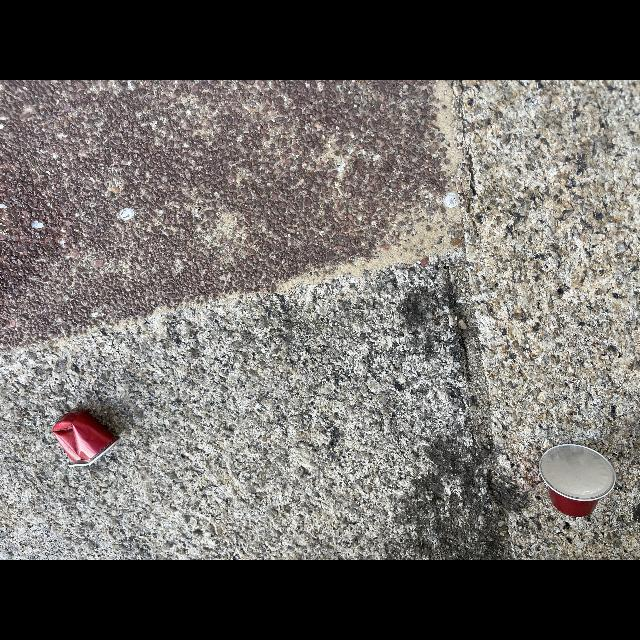damaged_capsule: (49, 397, 127, 475)
intact_capsule: (536, 436, 624, 530)
